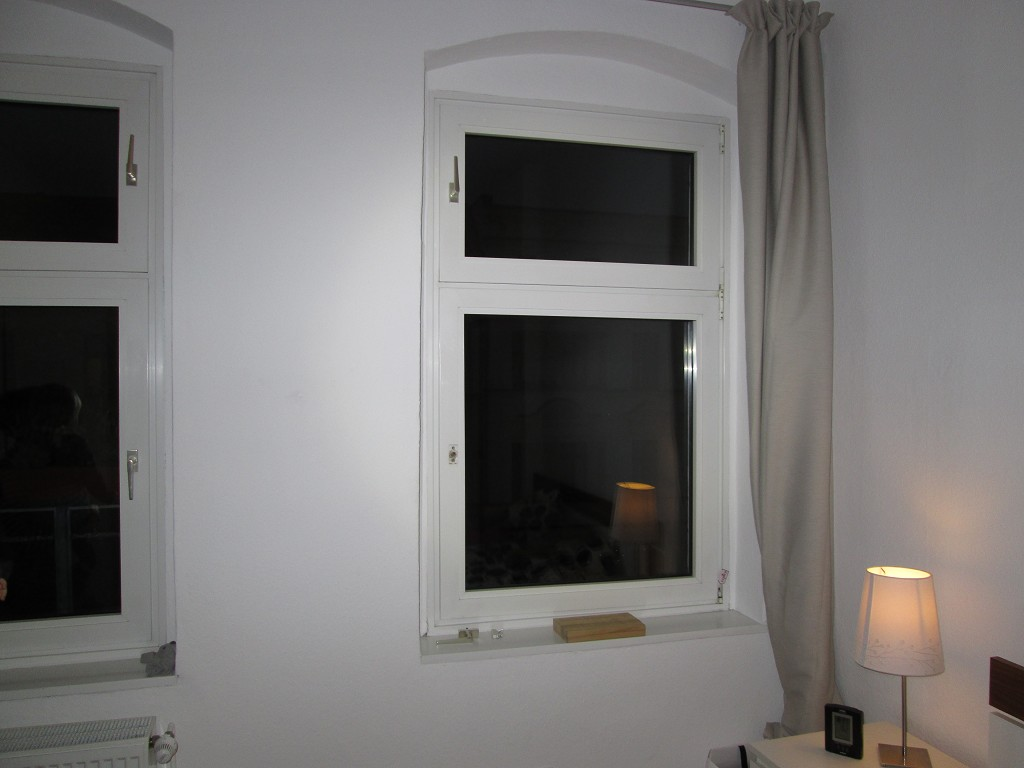windows: (427, 90, 740, 620)
